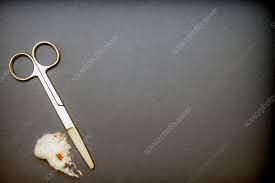cotton: (34, 132, 81, 176)
